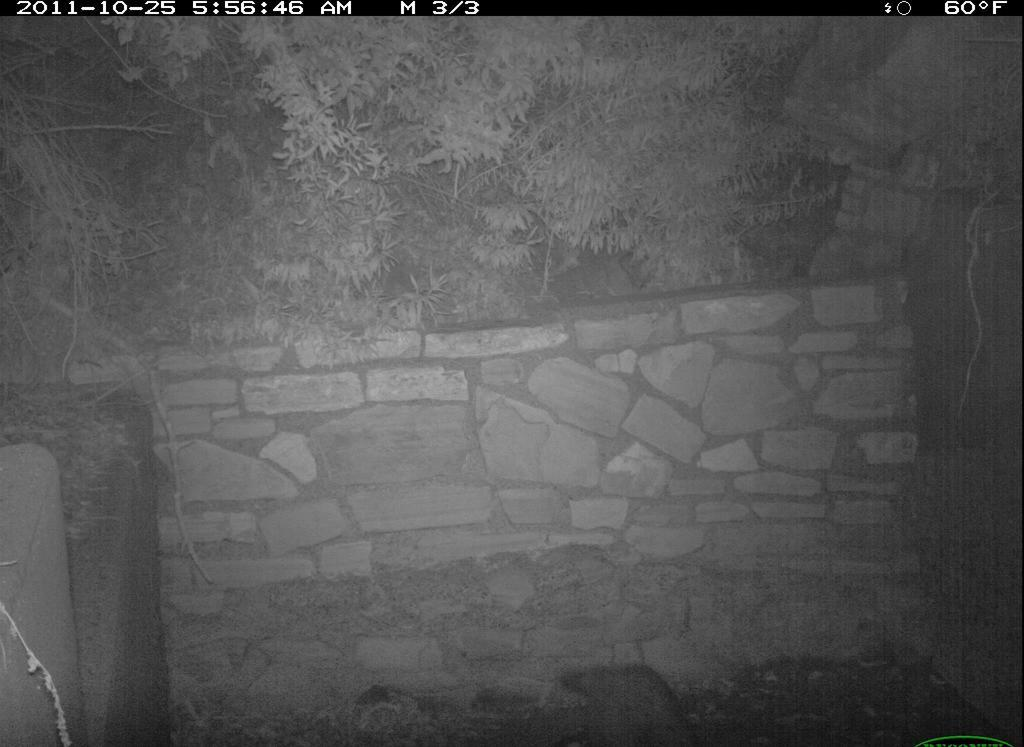raccoon: (548, 642, 715, 747)
